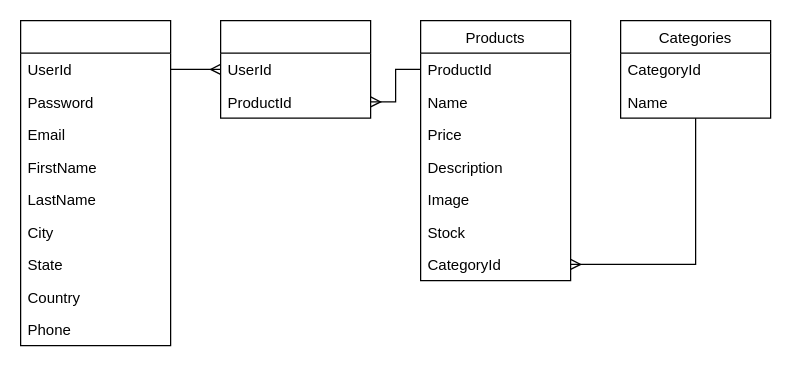
Image size: 791x366. Some labels were removed from this diagram. The box of each missing label's shape, as (x1, y1, x2, y2) in pixels:
Kart: (219, 19, 371, 118)
Users: (19, 19, 171, 346)
